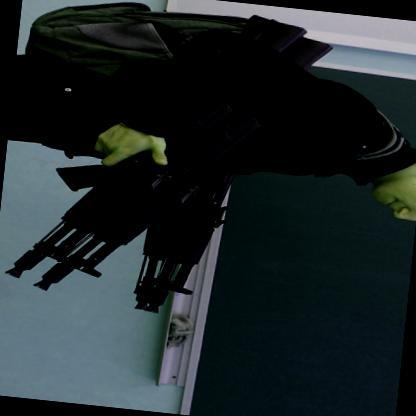rifle: (6, 0, 302, 302), (102, 16, 339, 329)
